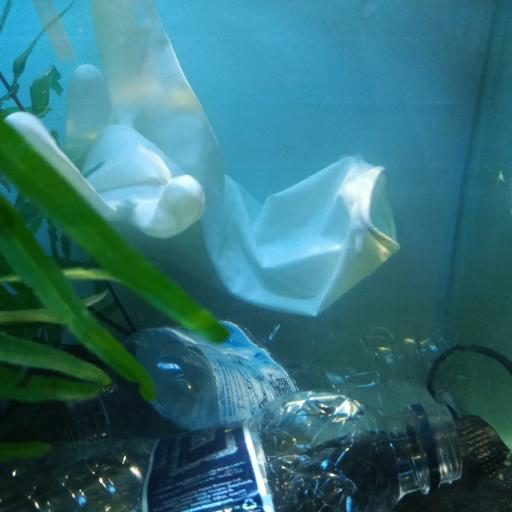glove: (8, 1, 404, 316)
mask: (348, 345, 512, 512)
plastic_bottle: (0, 385, 458, 512), (63, 326, 465, 429)
plastic_straw: (28, 0, 79, 67)
